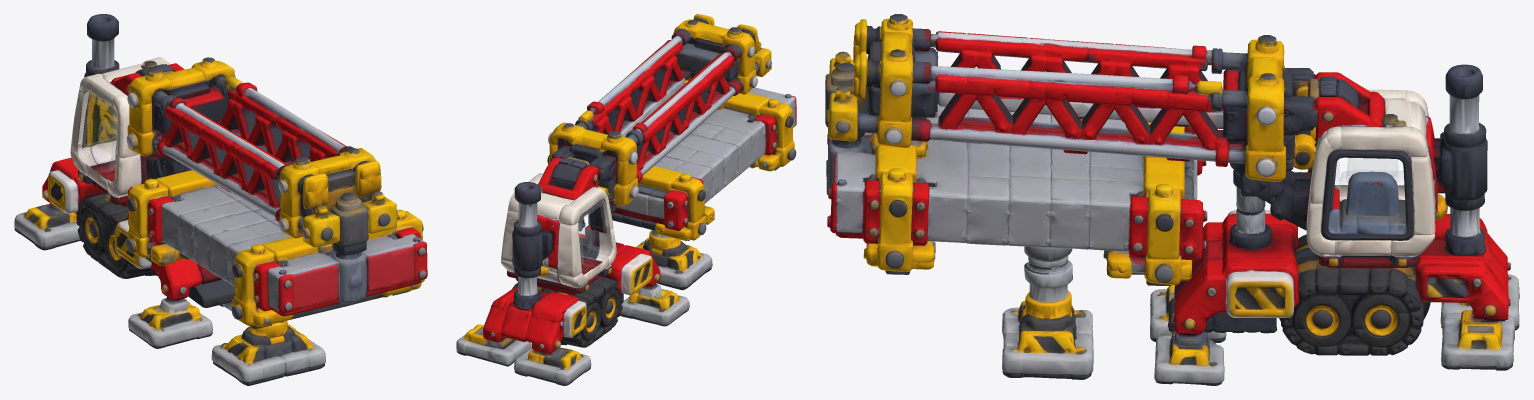
File: launcher-red.glb
The picture shows the model from 3 angles, left to right: view 1: azimuth 30°, elevation 25°; view 2: azimuth 150°, elevation 25°; view 3: azimuth 270°, elevation 25°; orthographic projection. The views are drawn at different scales.
Visible parts, largest first — view 1: tripo_part_0, tripo_part_1, tripo_part_4, tripo_part_6, tripo_part_11, tripo_part_21, tripo_part_2, tripo_part_22, tripo_part_33, tripo_part_15, tripo_part_18, tripo_part_29 (+33 smaller); view 2: tripo_part_1, tripo_part_0, tripo_part_4, tripo_part_12, tripo_part_13, tripo_part_6, tripo_part_15, tripo_part_29, tripo_part_31, tripo_part_18, tripo_part_11, tripo_part_32 (+30 smaller); view 3: tripo_part_0, tripo_part_1, tripo_part_29, tripo_part_13, tripo_part_4, tripo_part_6, tripo_part_7, tripo_part_5, tripo_part_14, tripo_part_15, tripo_part_12, tripo_part_28 (+39 smaller).
Boxes of the visible parts, x1,y1,x2,y2 form: tripo_part_0: (161,187,291,286); tripo_part_1: (70,57,170,206); tripo_part_4: (126,57,280,217); tripo_part_6: (275,146,381,238); tripo_part_11: (211,324,325,385); tripo_part_21: (267,251,341,316); tripo_part_2: (231,209,424,329); tripo_part_22: (362,234,427,296); tripo_part_33: (330,192,370,303); tripo_part_15: (151,90,287,179); tripo_part_18: (128,297,212,348); tripo_part_29: (210,75,345,157); tripo_part_1: (501,173,616,295); tripo_part_0: (654,108,765,203); tripo_part_4: (548,86,735,206); tripo_part_12: (483,287,579,354); tripo_part_13: (511,182,552,309); tripo_part_6: (671,14,758,95); tripo_part_15: (625,51,734,146); tripo_part_29: (575,35,682,130); tripo_part_31: (514,347,591,385); tripo_part_18: (620,284,689,326); tripo_part_11: (636,237,712,290); tripo_part_32: (456,324,531,366); tripo_part_0: (916,105,1144,251); tripo_part_1: (1306,89,1447,268); tripo_part_29: (930,66,1247,111); tripo_part_13: (1433,64,1487,256); tripo_part_4: (937,35,1290,182); tripo_part_6: (853,14,931,147); tripo_part_7: (1172,213,1300,335); tripo_part_5: (911,116,1245,166); tripo_part_14: (1321,149,1414,241); tripo_part_15: (930,31,1247,73); tripo_part_12: (1415,214,1511,321); tripo_part_28: (1279,234,1430,355).
Size of the model in its own units: 1.59 by 2.07 by 4.01.
Materials: 73 (72 with a texture image).
